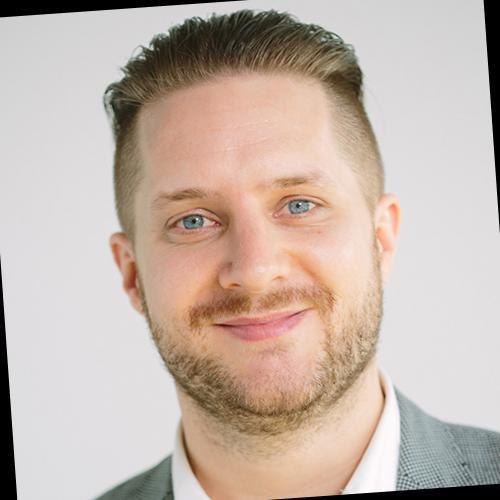Sober: (137, 96, 374, 387)
